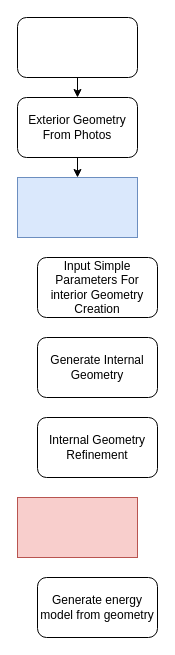
Some shapes in this 175 by 655 pixel diagram are drawn without their labels. The shapes that lost their labels are listed below. From the top down, each one's centre as x and y in pixels, then its label:
At (x=77, y=47): "Capture Representative Photos".
At (x=77, y=207): "Simple Geometry JSON (Polygons)".
At (x=77, y=527): "Output Geometry to OSM or IDF".
